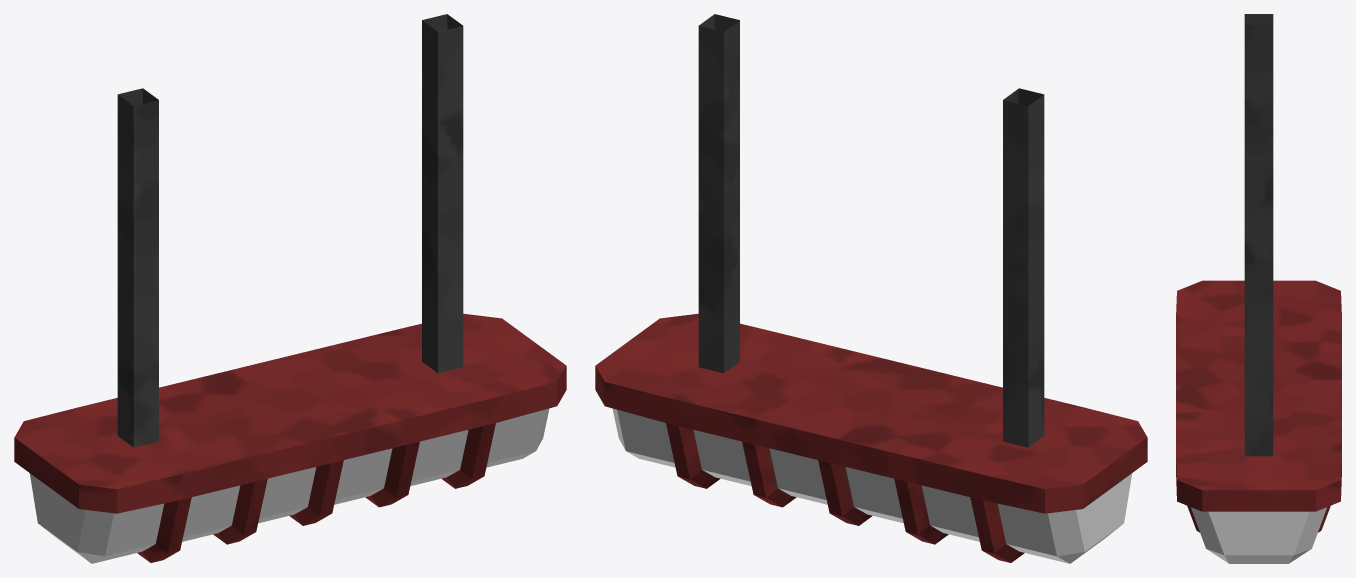
File: lamp.fbx
3 views of the same model, side by side, from view 1: azimuth 30°, elevation 25°; view 2: azimuth 150°, elevation 25°; view 3: azimuth 270°, elevation 25° (orthographic). The views are drawn at different scales.
Visible parts, largest first — view 1: лампа, лампа_свет; view 2: лампа, лампа_свет; view 3: лампа, лампа_свет.
Boxes of the visible parts, <box> form: лампа: <box>14,14,566,562</box>; лампа_свет: <box>29,408,549,563</box>; лампа: <box>595,14,1147,562</box>; лампа_свет: <box>612,408,1132,563</box>; лампа: <box>1176,14,1341,532</box>; лампа_свет: <box>1190,507,1327,563</box>.
Bounding box in the file's own units: 20.93 × 18.48 × 7.
